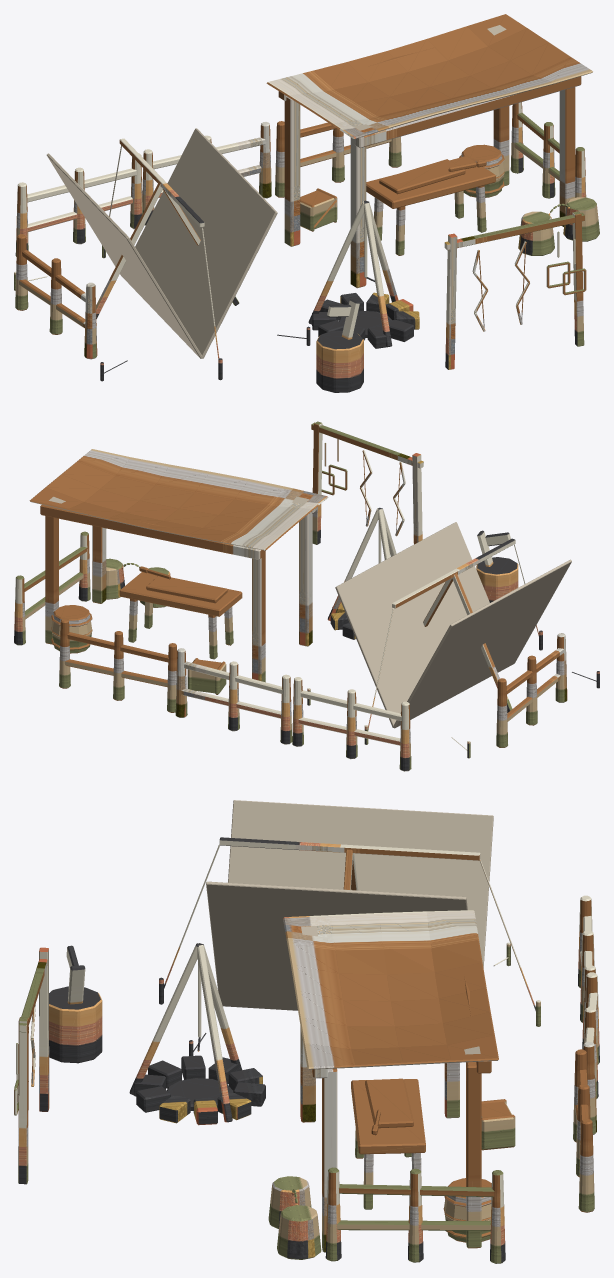
File: hunters_camp_textured.glb
The picture shows the model from 3 angles, top to bottom: view 1: azimuth 30°, elevation 25°; view 2: azimuth 150°, elevation 25°; view 3: azimuth 270°, elevation 25°; orthographic projection. The views are drawn at different scales.
Parts seen in each view (by area): view 1: HC_Processing_Canopy, HC_Sleeping_Tent, HC_Field_Worktable, HC_Hunter_Tool_Rack, HC_Boundary_Rail_04, HC_Boundary_Rail_01, HC_Chopping_Block, HC_Hearth, HC_Boundary_Rail_05, HC_Cooking_Tripod, HC_Boundary_Rail_03, HC_Boundary_Rail_02 (+3 smaller); view 2: HC_Sleeping_Tent, HC_Processing_Canopy, HC_Field_Worktable, HC_Hunter_Tool_Rack, HC_Boundary_Rail_01, HC_Boundary_Rail_02, HC_Boundary_Rail_03, HC_Boundary_Rail_04, HC_Boundary_Rail_05, HC_Chopping_Block, HC_Supply_Barrel, HC_Cooking_Tripod (+3 smaller); view 3: HC_Sleeping_Tent, HC_Processing_Canopy, HC_Boundary_Rail_05, HC_Hearth, HC_Field_Worktable, HC_Hunter_Tool_Rack, HC_Chopping_Block, HC_Cooking_Tripod, HC_Water_Buckets, HC_Boundary_Rail_03, HC_Boundary_Rail_02, HC_Supply_Crate (+2 smaller).
Part boxes in pixels (box(x1,y1,x2,y2)): HC_Processing_Canopy: box(266, 14, 592, 288); HC_Sleeping_Tent: box(14, 128, 310, 381); HC_Field_Worktable: box(366, 156, 496, 255); HC_Hunter_Tool_Rack: box(444, 211, 586, 369); HC_Boundary_Rail_04: box(15, 234, 97, 359); HC_Boundary_Rail_01: box(15, 153, 142, 256); HC_Chopping_Block: box(316, 299, 363, 392); HC_Hearth: box(312, 292, 419, 348); HC_Boundary_Rail_05: box(510, 102, 586, 198); HC_Cooking_Tripod: box(308, 200, 398, 346); HC_Boundary_Rail_03: box(275, 121, 401, 197); HC_Boundary_Rail_02: box(142, 122, 271, 225); HC_Sleeping_Tent: box(307, 522, 599, 758); HC_Processing_Canopy: box(29, 449, 328, 682); HC_Field_Worktable: box(119, 566, 242, 659); HC_Hunter_Tool_Rack: box(311, 421, 423, 544); HC_Boundary_Rail_01: box(292, 677, 411, 771); HC_Boundary_Rail_02: box(175, 648, 292, 744); HC_Boundary_Rail_03: box(59, 619, 177, 712); HC_Boundary_Rail_04: box(496, 633, 567, 747); HC_Boundary_Rail_05: box(14, 531, 90, 645); HC_Chopping_Block: box(476, 530, 518, 602); HC_Supply_Barrel: box(51, 605, 92, 653); HC_Cooking_Tripod: box(327, 507, 396, 620); HC_Sleeping_Tent: box(159, 800, 540, 1055); HC_Processing_Canopy: box(283, 910, 498, 1252); HC_Boundary_Rail_05: box(325, 1167, 505, 1263); HC_Hearth: box(133, 1055, 265, 1125); HC_Field_Worktable: box(351, 1078, 425, 1209); HC_Hunter_Tool_Rack: box(14, 947, 49, 1184); HC_Chopping_Block: box(49, 945, 102, 1063); HC_Cooking_Tripod: box(129, 943, 242, 1122); HC_Water_Buckets: box(268, 1176, 321, 1259); HC_Boundary_Rail_03: box(573, 1049, 594, 1212); HC_Boundary_Rail_02: box(583, 972, 599, 1134); HC_Supply_Crate: box(481, 1099, 515, 1150).
Size of the model in its own units: 9.16 by 2.66 by 7.14.
Materials: 10 (8 with a texture image).
